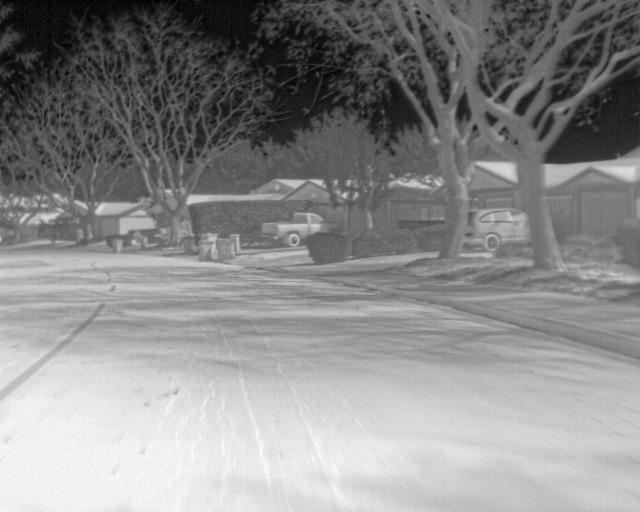car: (258, 211, 337, 247), (467, 207, 530, 251)
